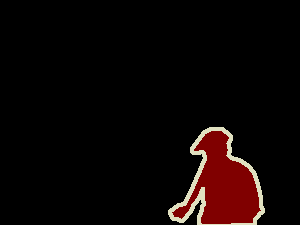person: (168, 129, 263, 225)
